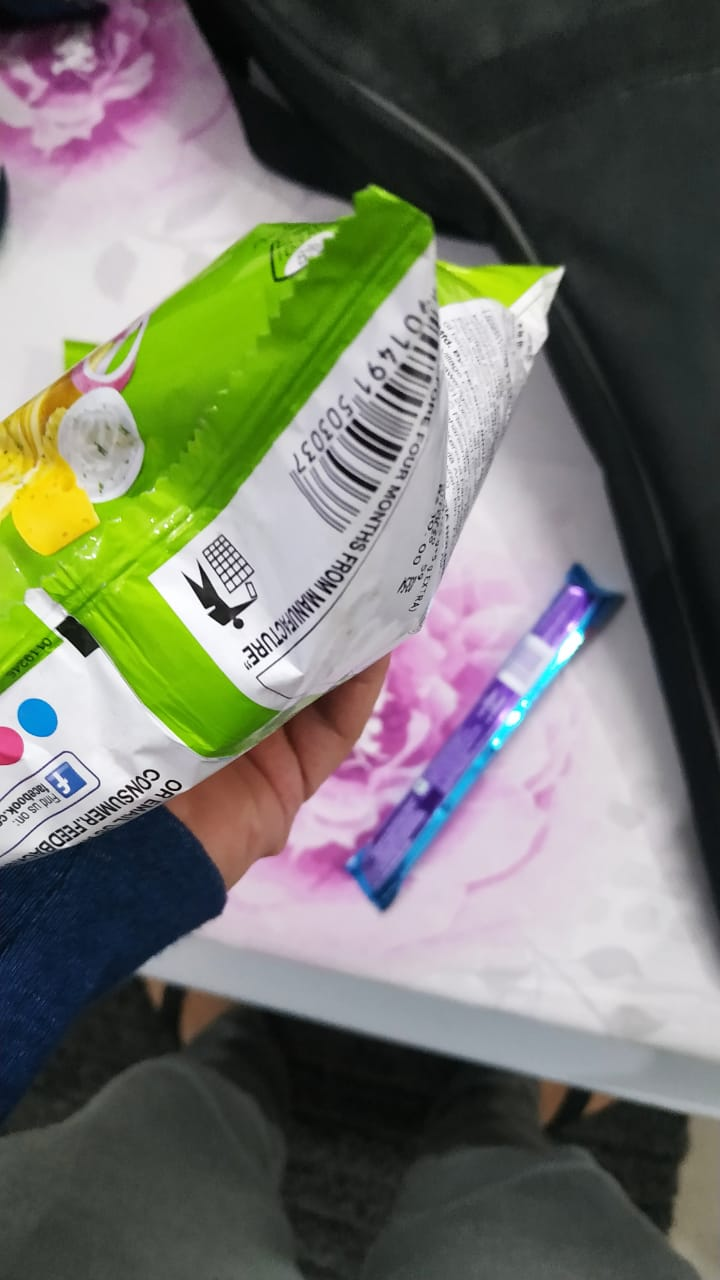lays chips: (1, 221, 582, 863)
perk: (317, 547, 660, 906)
